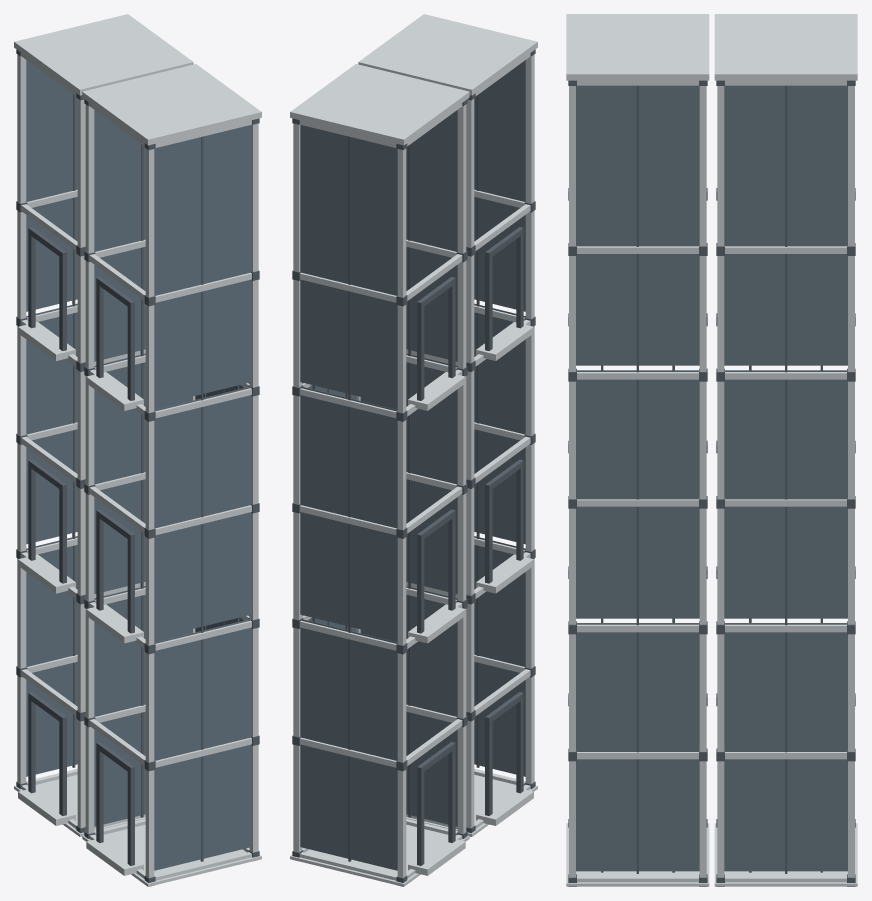
File: elevators.glb
3 renders of one model, left to right at view 1: azimuth 30°, elevation 25°; view 2: azimuth 150°, elevation 25°; view 3: azimuth 270°, elevation 25°, orthographic. The views are drawn at different scales.
Parts seen in each view (by area): view 1: Elevator static B - shaft glazing, Elevator static B - primary frame, Elevator static A - shaft glazing, Elevator static A - primary frame, Elevator static B - base and cap, Elevator static A - base and cap, Elevator static B - portal frames, Elevator static A - portal frames, Elevator static B - secondary frame, Elevator static B - landing bridges, Elevator static A - landing bridges, Elevator static A - secondary frame; view 2: Elevator static A - shaft glazing, Elevator static A - primary frame, Elevator static B - shaft glazing, Elevator static B - primary frame, Elevator static A - base and cap, Elevator static B - base and cap, Elevator static A - portal frames, Elevator static B - portal frames, Elevator static A - secondary frame, Elevator static A - landing bridges, Elevator static B - landing bridges, Elevator static B - secondary frame; view 3: Elevator static A - shaft glazing, Elevator static B - shaft glazing, Elevator static A - primary frame, Elevator static B - primary frame, Elevator static A - base and cap, Elevator static B - base and cap, Elevator static A - secondary frame, Elevator static B - secondary frame.
Part boxes in pixels (x1,y1,x2,y2): Elevator static B - shaft glazing: [94, 110, 251, 870]; Elevator static B - primary frame: [85, 103, 258, 880]; Elevator static A - shaft glazing: [26, 60, 77, 776]; Elevator static A - primary frame: [17, 53, 145, 829]; Elevator static B - base and cap: [82, 64, 261, 886]; Elevator static A - base and cap: [14, 14, 193, 836]; Elevator static B - portal frames: [96, 277, 134, 865]; Elevator static A - portal frames: [28, 227, 66, 815]; Elevator static B - secondary frame: [84, 99, 259, 886]; Elevator static B - landing bridges: [86, 372, 143, 875]; Elevator static A - landing bridges: [18, 322, 75, 825]; Elevator static A - secondary frame: [16, 49, 85, 836]; Elevator static A - shaft glazing: [300, 110, 457, 870]; Elevator static A - primary frame: [293, 103, 466, 880]; Elevator static B - shaft glazing: [474, 60, 525, 776]; Elevator static B - primary frame: [406, 53, 534, 829]; Elevator static A - base and cap: [290, 64, 469, 886]; Elevator static B - base and cap: [358, 14, 537, 836]; Elevator static A - portal frames: [417, 277, 455, 865]; Elevator static B - portal frames: [485, 227, 523, 815]; Elevator static A - secondary frame: [292, 99, 467, 886]; Elevator static A - landing bridges: [408, 372, 465, 875]; Elevator static B - landing bridges: [476, 322, 533, 825]; Elevator static B - secondary frame: [466, 49, 535, 836]; Elevator static A - shaft glazing: [724, 85, 847, 871]; Elevator static B - shaft glazing: [576, 85, 699, 871]; Elevator static A - primary frame: [717, 80, 854, 882]; Elevator static B - primary frame: [569, 80, 706, 882]; Elevator static A - base and cap: [714, 14, 857, 886]; Elevator static B - base and cap: [566, 14, 709, 886]; Elevator static A - secondary frame: [716, 80, 855, 886]; Elevator static B - secondary frame: [568, 80, 707, 886].
Bounding box in the file's own units: 3.57 × 20.59 × 6.68.
